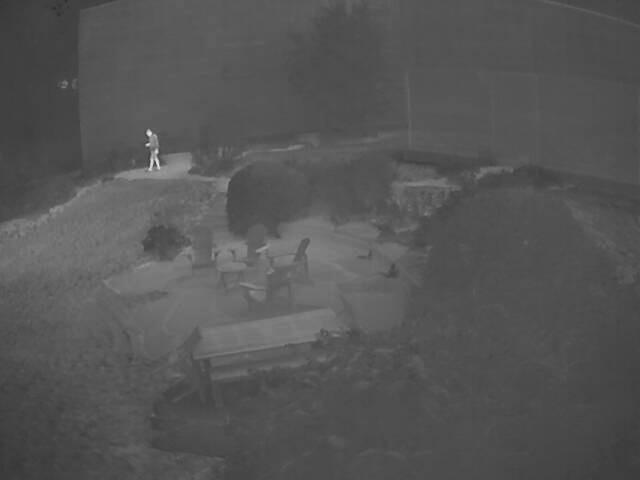person: (142, 127, 164, 173)
